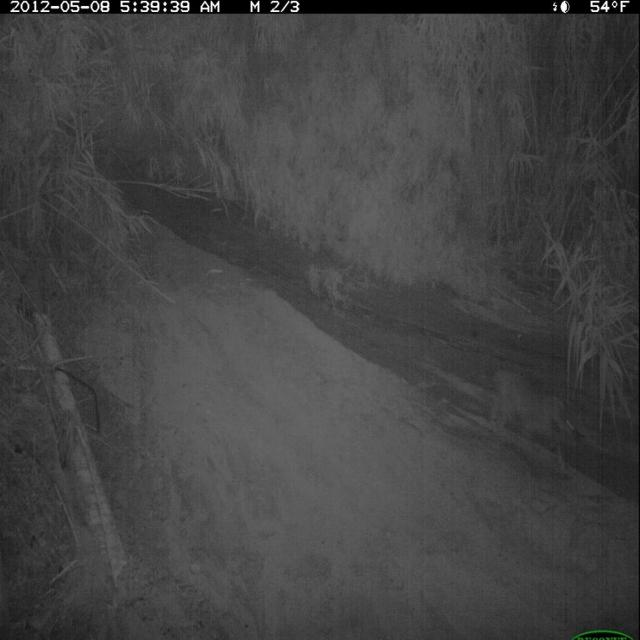bobcat: (485, 362, 582, 480)
